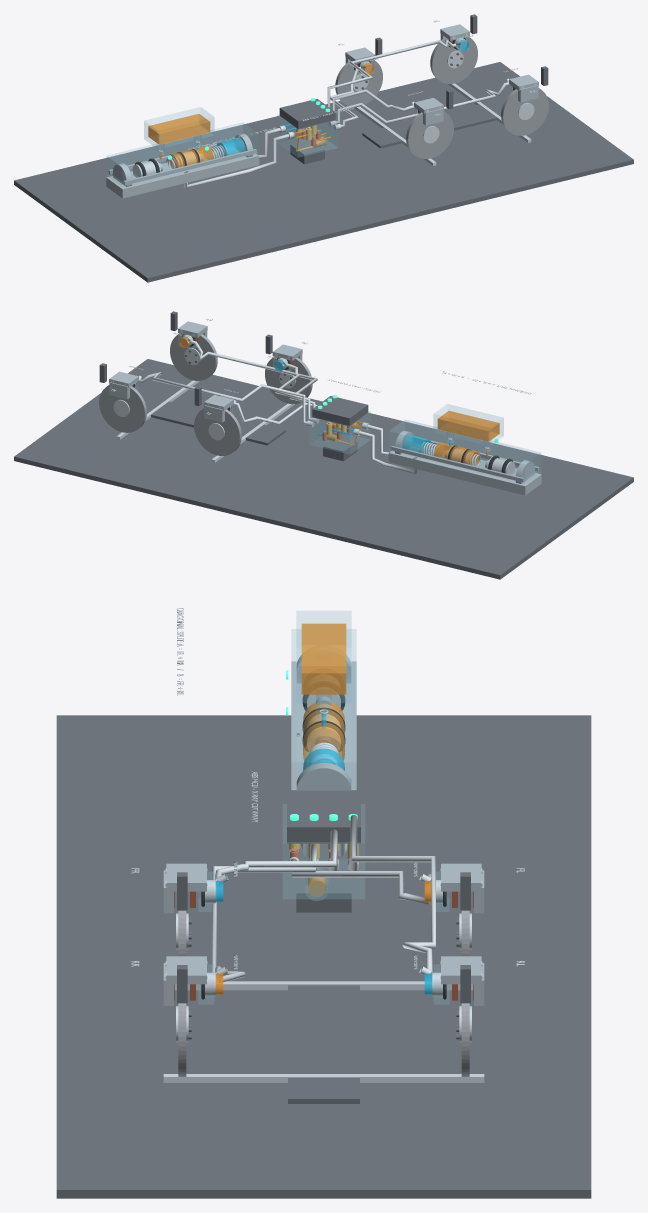
Rendered from brakes_abs_on.glb.
The picture shows the model from 3 angles, top to bottom: view 1: azimuth 30°, elevation 25°; view 2: azimuth 150°, elevation 25°; view 3: azimuth 270°, elevation 25°; orthographic projection. The views are drawn at different scales.
Visible parts, largest first — view 1: WEB_Studio floor, WEB_Master cylinder transparent upper shell, WEB_Master cylinder lower solid housing, WEB_Reservoir translucent body, WEB_Vehicle chassis reference, WEB_ABS HCU XRAY transparent valve block, WEB_RR brake rotor, WEB_FR brake rotor, WEB_RL brake rotor, WEB_Reservoir amber brake fluid level, WEB_ABS electronic controller black module, WEB_FL brake rotor (+6 smaller); view 2: WEB_Studio floor, WEB_Master cylinder transparent upper shell, WEB_Master cylinder lower solid housing, WEB_Reservoir translucent body, WEB_Vehicle chassis reference, WEB_ABS HCU XRAY transparent valve block, WEB_RL brake rotor, WEB_FL brake rotor, WEB_RR brake rotor, WEB_Reservoir amber brake fluid level, WEB_ABS electronic controller black module, WEB_FR brake rotor (+5 smaller); view 3: WEB_Studio floor, WEB_Vehicle chassis reference, WEB_Master cylinder transparent upper shell, WEB_Reservoir translucent body, WEB_ABS electronic controller black module, WEB_Reservoir amber brake fluid level, WEB_ABS HCU XRAY transparent valve block, WEB_REAR axle reference, WEB_ABS electric pump motor housing, WEB_FRONT axle reference, WEB_V6 STAGGERED RL metal brake line, WEB_Primary pressure chamber fluid (+9 smaller).
Boxes of the visible parts, x1,y1,x2,y2 form: WEB_Studio floor: [14, 62, 633, 282]; WEB_Master cylinder transparent upper shell: [106, 122, 258, 186]; WEB_Master cylinder lower solid housing: [106, 149, 259, 198]; WEB_Reservoir translucent body: [144, 107, 214, 148]; WEB_Vehicle chassis reference: [362, 98, 505, 148]; WEB_ABS HCU XRAY transparent valve block: [277, 114, 337, 157]; WEB_RR brake rotor: [501, 88, 548, 135]; WEB_FR brake rotor: [406, 111, 453, 158]; WEB_RL brake rotor: [430, 36, 477, 83]; WEB_Reservoir amber brake fluid level: [148, 114, 210, 144]; WEB_ABS electronic controller black module: [279, 99, 335, 129]; WEB_FL brake rotor: [335, 59, 382, 105]; WEB_Studio floor: [14, 359, 633, 579]; WEB_Master cylinder transparent upper shell: [389, 419, 541, 483]; WEB_Master cylinder lower solid housing: [388, 446, 541, 495]; WEB_Reservoir translucent body: [433, 404, 503, 445]; WEB_Vehicle chassis reference: [142, 395, 285, 445]; WEB_ABS HCU XRAY transparent valve block: [310, 411, 370, 454]; WEB_RL brake rotor: [99, 385, 146, 432]; WEB_FL brake rotor: [194, 408, 241, 455]; WEB_RR brake rotor: [170, 333, 217, 380]; WEB_Reservoir amber brake fluid level: [437, 411, 499, 441]; WEB_ABS electronic controller black module: [312, 396, 368, 426]; WEB_FR brake rotor: [265, 356, 312, 404]; WEB_Studio floor: [56, 715, 591, 1198]; WEB_Vehicle chassis reference: [288, 961, 359, 1103]; WEB_Master cylinder transparent upper shell: [291, 629, 356, 789]; WEB_Reservoir translucent body: [296, 611, 351, 702]; WEB_ABS electronic controller black module: [287, 790, 360, 843]; WEB_Reservoir amber brake fluid level: [301, 623, 346, 694]; WEB_ABS HCU XRAY transparent valve block: [283, 804, 364, 898]; WEB_REAR axle reference: [163, 1074, 484, 1082]; WEB_ABS electric pump motor housing: [296, 877, 351, 912]; WEB_FRONT axle reference: [174, 981, 473, 990]; WEB_V6 STAGGERED RL metal brake line: [350, 815, 435, 973]; WEB_Primary pressure chamber fluid: [303, 703, 344, 760].
Bounding box in the file's own units: 21 × 3.84 × 10.
